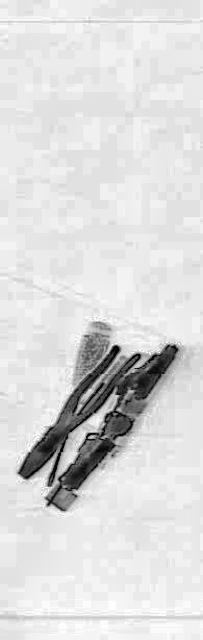Pliers: (15, 314, 141, 501)
